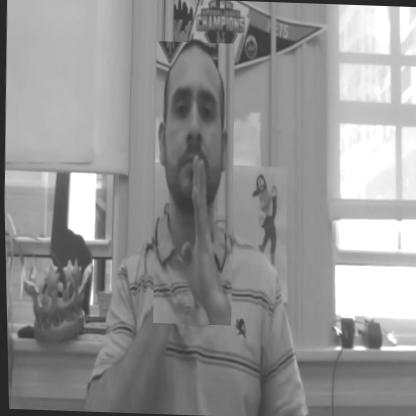Talk: (147, 41, 240, 326)
